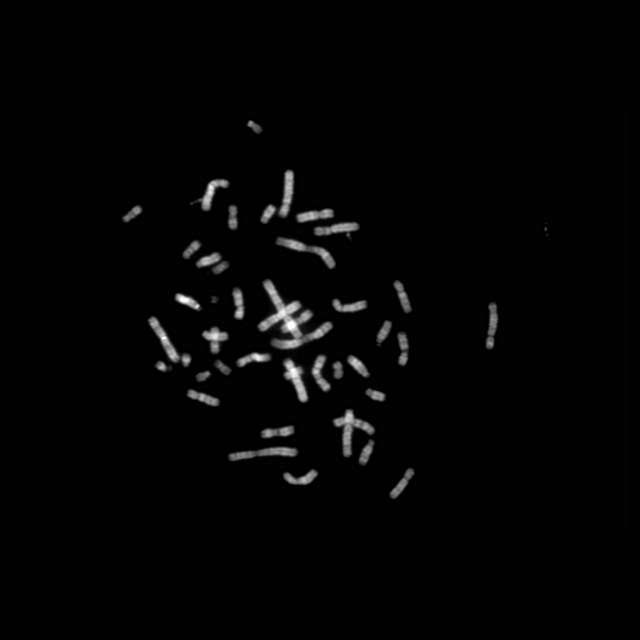chromosome: (262, 280, 302, 338), (276, 238, 336, 270), (272, 322, 332, 348), (148, 318, 180, 362), (258, 302, 302, 331), (284, 359, 308, 401), (202, 178, 228, 212), (228, 448, 300, 460), (390, 469, 414, 499), (280, 310, 312, 332), (280, 170, 294, 218), (312, 355, 330, 391), (334, 418, 374, 434), (315, 223, 361, 235), (394, 282, 412, 312), (238, 352, 270, 368), (187, 390, 219, 406), (342, 410, 353, 456), (347, 355, 369, 377), (283, 470, 317, 484), (487, 303, 497, 349), (297, 210, 333, 222), (358, 439, 374, 465), (332, 300, 366, 312), (262, 426, 294, 438), (176, 294, 200, 310), (197, 252, 221, 268), (232, 289, 244, 319), (398, 332, 408, 366), (376, 320, 390, 344), (182, 240, 200, 258), (123, 205, 141, 222), (260, 206, 276, 224), (202, 331, 228, 341), (210, 327, 220, 353), (228, 206, 238, 230), (215, 361, 231, 375), (366, 389, 384, 401), (284, 368, 302, 380), (213, 262, 229, 274), (248, 122, 262, 134), (196, 371, 210, 383), (333, 362, 343, 378), (156, 361, 168, 372), (182, 354, 190, 366)
